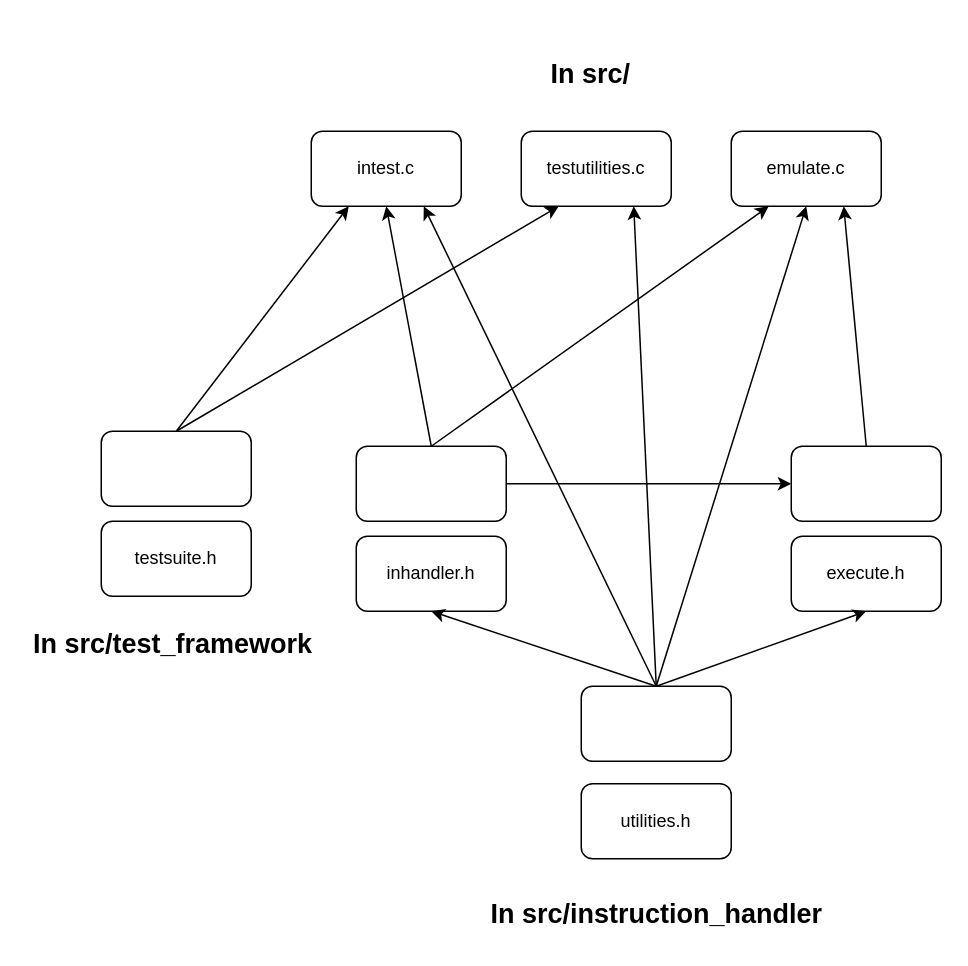
Some shapes in this 968 by 966 pixel diagram are drawn without their labels. Each missing label, with the box of its shape:
execute.c: (790, 445, 941, 521)
inhandler.c: (355, 445, 506, 521)
testsuite.c: (100, 430, 251, 506)
utilities.c: (580, 685, 731, 761)
